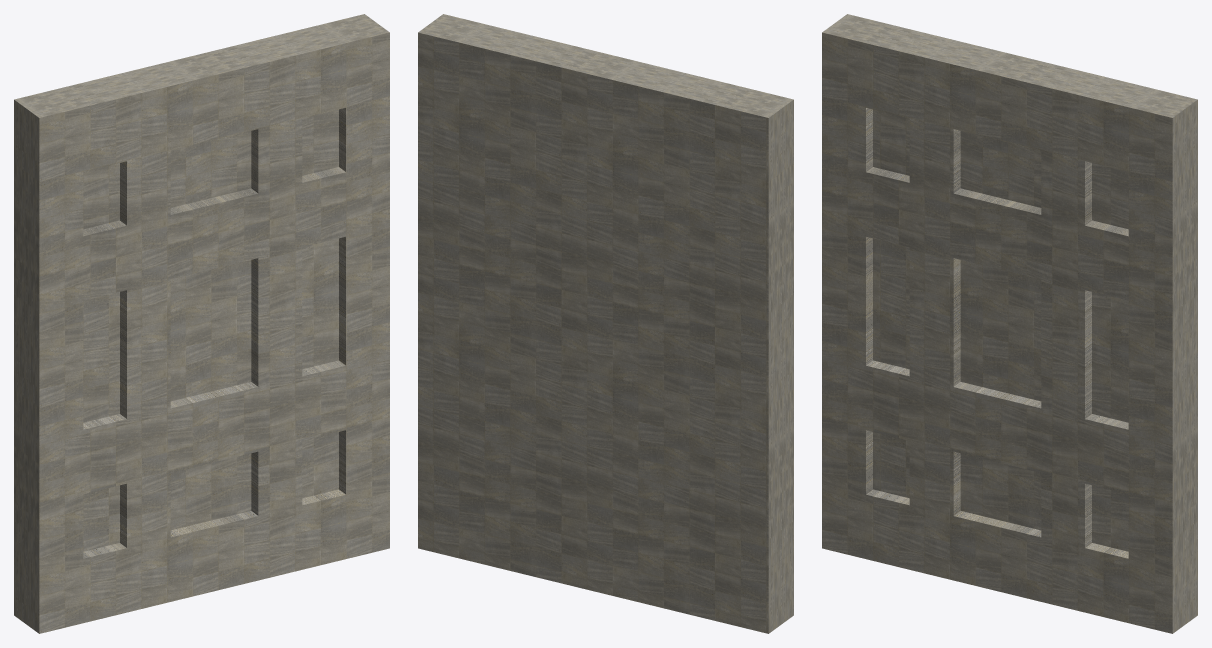
The model's file is door1.obj.
The picture shows the model from 3 angles, left to right: view 1: azimuth 30°, elevation 25°; view 2: azimuth 150°, elevation 25°; view 3: azimuth 330°, elevation 25°; orthographic projection.
Visible parts, largest first — view 1: 立方体.017; view 2: 立方体.017; view 3: 立方体.017.
Part boxes in pixels (x1,y1,x2,y2): 立方体.017: (14, 14, 389, 633); 立方体.017: (418, 14, 793, 633); 立方体.017: (822, 14, 1197, 633).
Bounding box in the file's own units: 6.4 × 9 × 0.8.
1 material, 1 textured.
